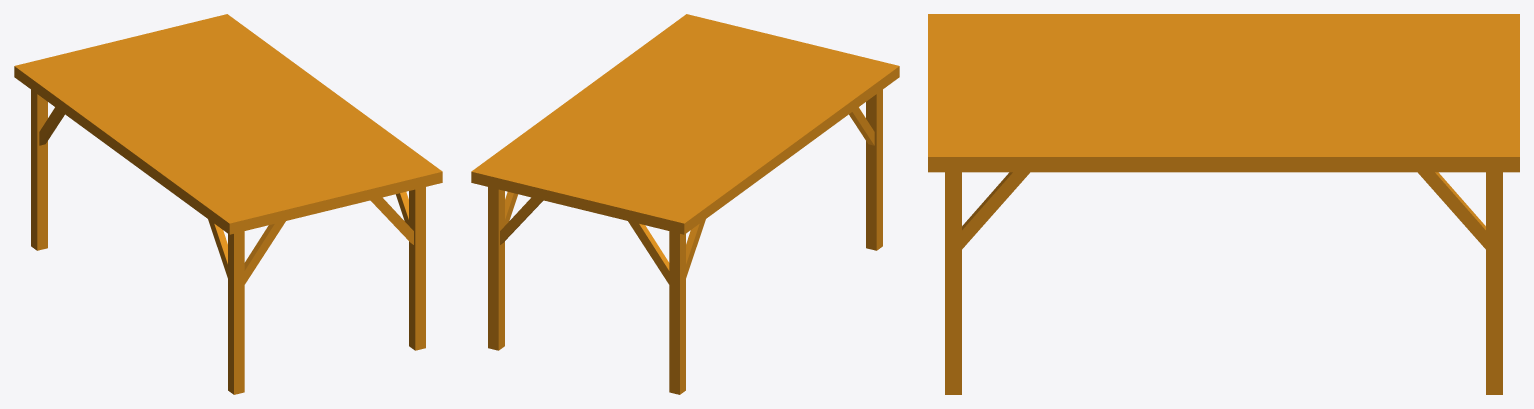
Rendered from Table.fbx.
3 renders of one model, left to right at view 1: azimuth 30°, elevation 25°; view 2: azimuth 150°, elevation 25°; view 3: azimuth 270°, elevation 25°, orthographic. The views are drawn at different scales.
Visible parts, largest first — view 1: Cube; view 2: Cube; view 3: Cube.
Part boxes in pixels (box(x1,y1,x2,y2)): Cube: box(14, 14, 442, 394); Cube: box(471, 14, 899, 394); Cube: box(928, 14, 1519, 394).
Size of the model in its own units: 400 by 320 by 700.
